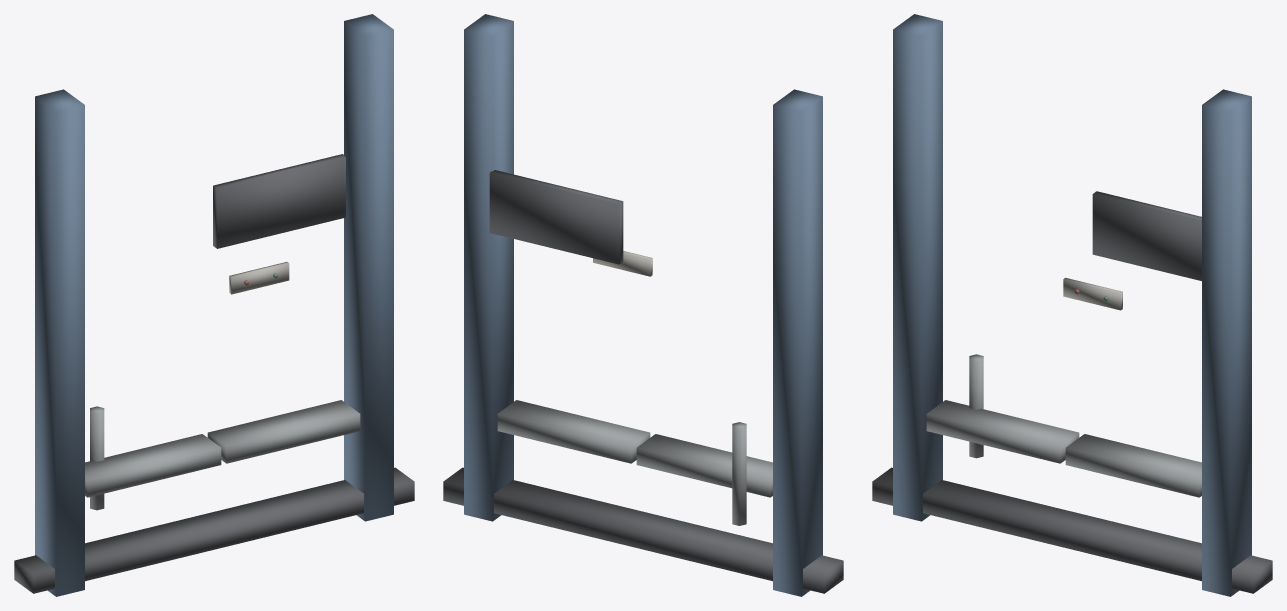
File: two_post_car_lift__service.glb
3 views of the same model, side by side, from view 1: azimuth 30°, elevation 25°; view 2: azimuth 150°, elevation 25°; view 3: azimuth 330°, elevation 25° (orthographic).
Visible parts, largest first — view 1: world; view 2: world; view 3: world.
Part boxes in pixels (box(x1,y1,x2,y2)): world: box(14, 14, 414, 596); world: box(443, 14, 843, 596); world: box(872, 14, 1272, 596).
Bounding box in the file's own units: 1.85 × 2.25 × 0.2413.
